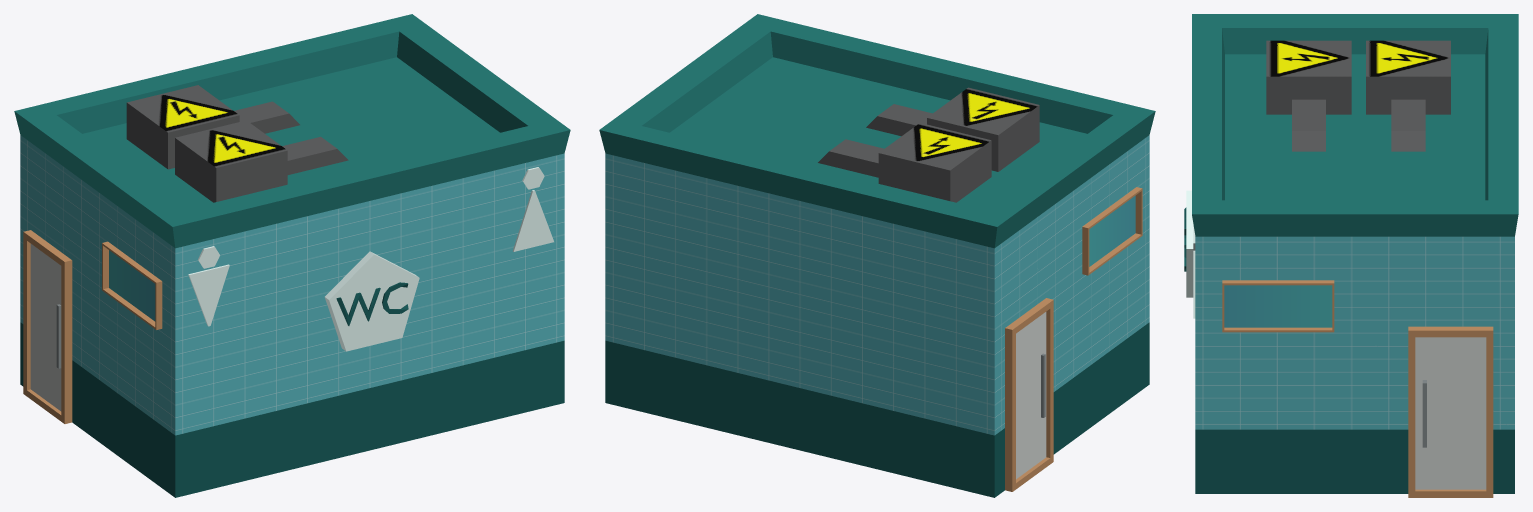
The picture shows the model from 3 angles, left to right: view 1: azimuth 30°, elevation 25°; view 2: azimuth 150°, elevation 25°; view 3: azimuth 270°, elevation 25°; orthographic projection. The views are drawn at different scales.
Visible parts, largest first — view 1: WC; view 2: WC; view 3: WC.
Boxes of the visible parts, x1,y1,x2,y2 form: WC: (14,14,570,497); WC: (599,14,1155,497); WC: (1184,14,1518,497).
Size of the model in its own units: 342 by 230 by 235.
